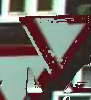Give way: (17, 5, 88, 91)
